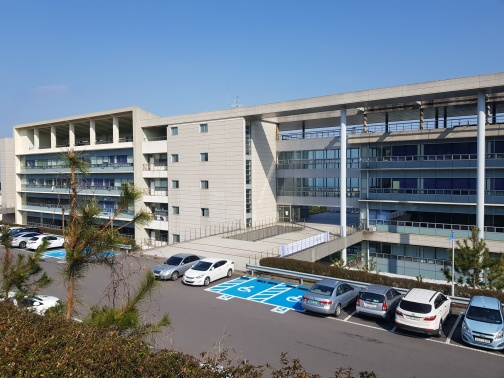Engineering College Building 4: (15, 106, 504, 240), (140, 114, 369, 243), (363, 83, 498, 282)
